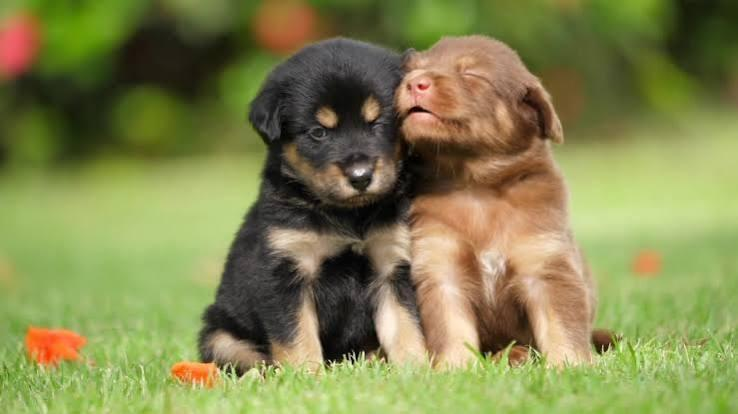puppy-dog: (199, 36, 429, 375), (395, 37, 611, 373)
